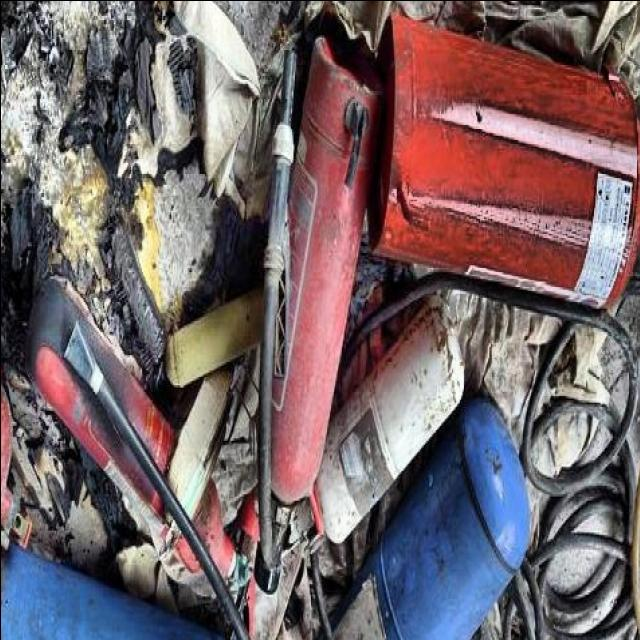cylinder: (253, 36, 383, 594), (313, 399, 531, 640)
